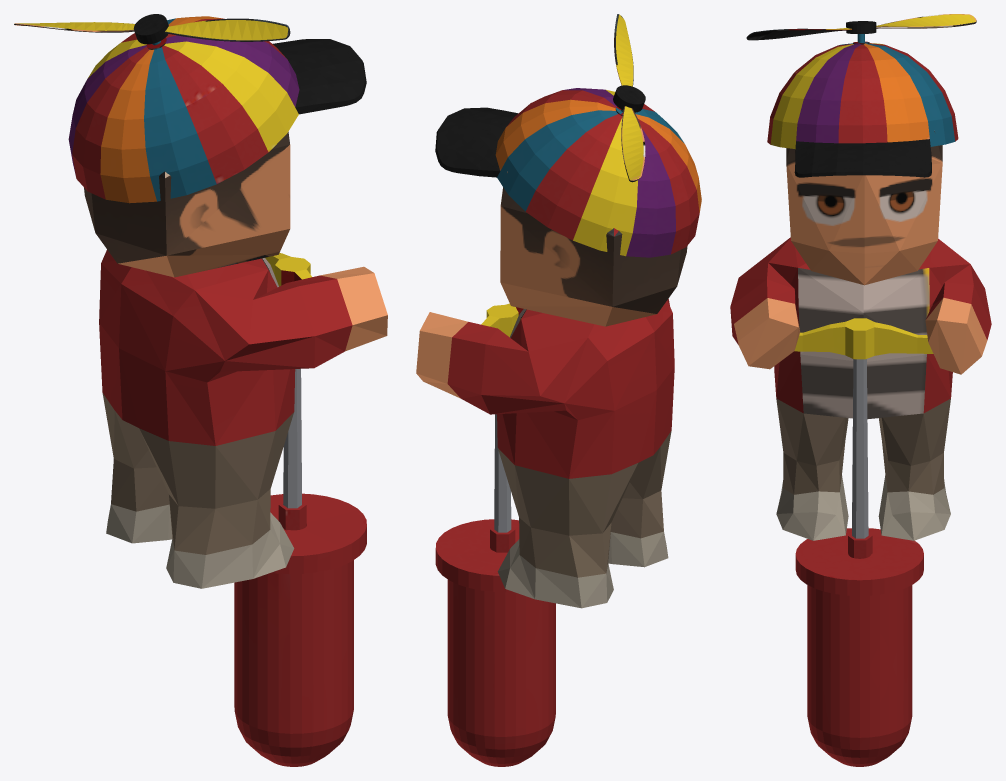
File: RedPogger.fbx
The picture shows the model from 3 angles, left to right: view 1: azimuth 30°, elevation 25°; view 2: azimuth 150°, elevation 25°; view 3: azimuth 270°, elevation 25°; orthographic projection. The views are drawn at different scales.
Visible parts, largest first — view 1: ValjdaRadi; view 2: ValjdaRadi; view 3: ValjdaRadi.
Boxes of the visible parts, x1,y1,x2,y2 form: ValjdaRadi: [14, 14, 387, 766]; ValjdaRadi: [416, 14, 701, 766]; ValjdaRadi: [730, 14, 991, 766].
Size of the model in its own units: 0.3619 by 0.986 by 0.3328.
1 material, 1 textured.
